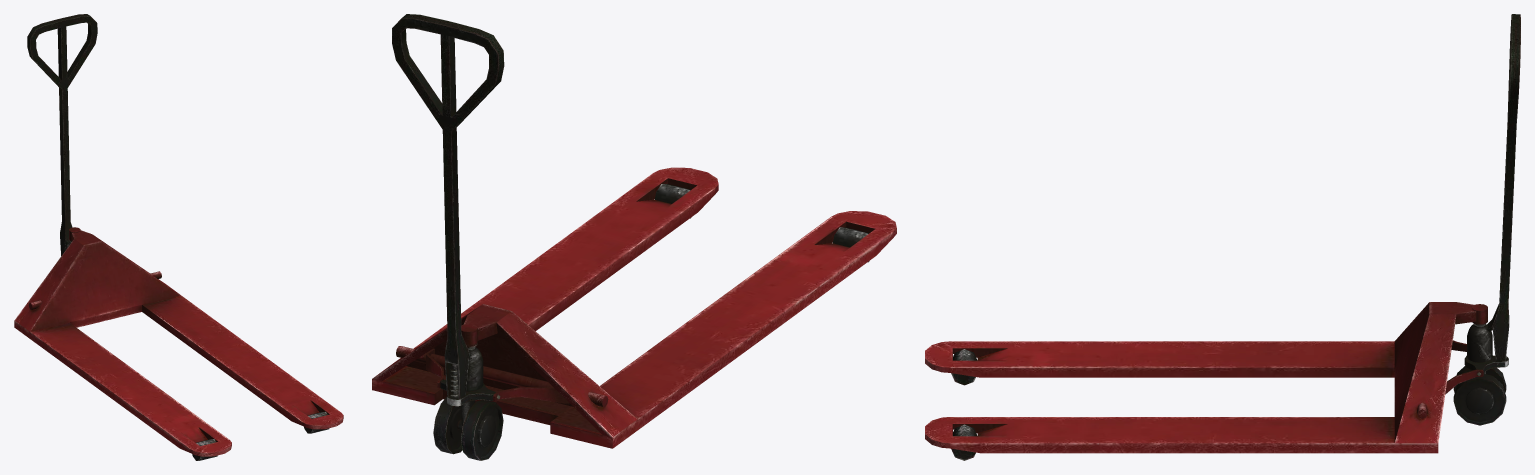
The model's file is pallet-jack.glb.
3 renders of one model, left to right at view 1: azimuth 30°, elevation 25°; view 2: azimuth 150°, elevation 25°; view 3: azimuth 270°, elevation 25°, orthographic. The views are drawn at different scales.
Visible parts, largest first — view 1: Box002_PalletJack_0; view 2: Box002_PalletJack_0; view 3: Box002_PalletJack_0.
Part boxes in pixels (x1,y1,x2,y2): Box002_PalletJack_0: [14, 14, 343, 460]; Box002_PalletJack_0: [372, 14, 896, 460]; Box002_PalletJack_0: [925, 14, 1520, 460].
Bounding box in the file's own units: 0.6863 × 1.22 × 1.69.
1 material, 1 textured.
